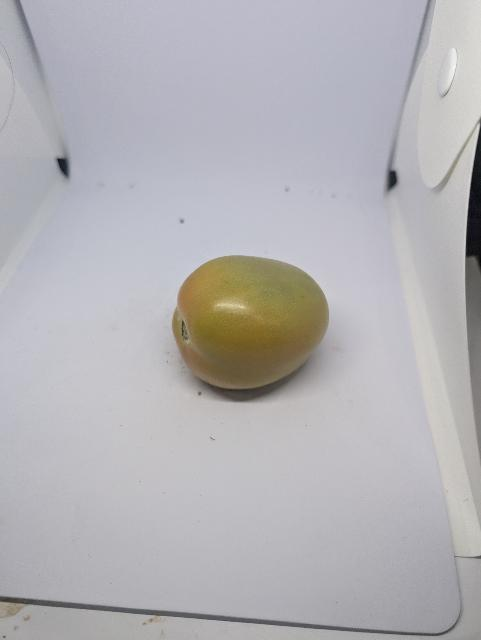breaker: (170, 254, 332, 394)
